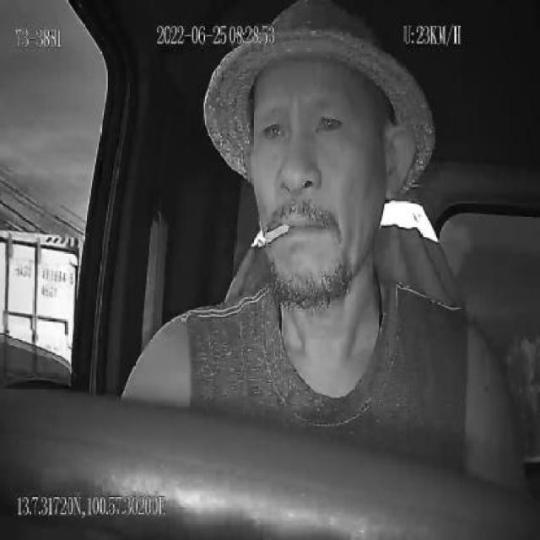smoking: (254, 220, 290, 250)
